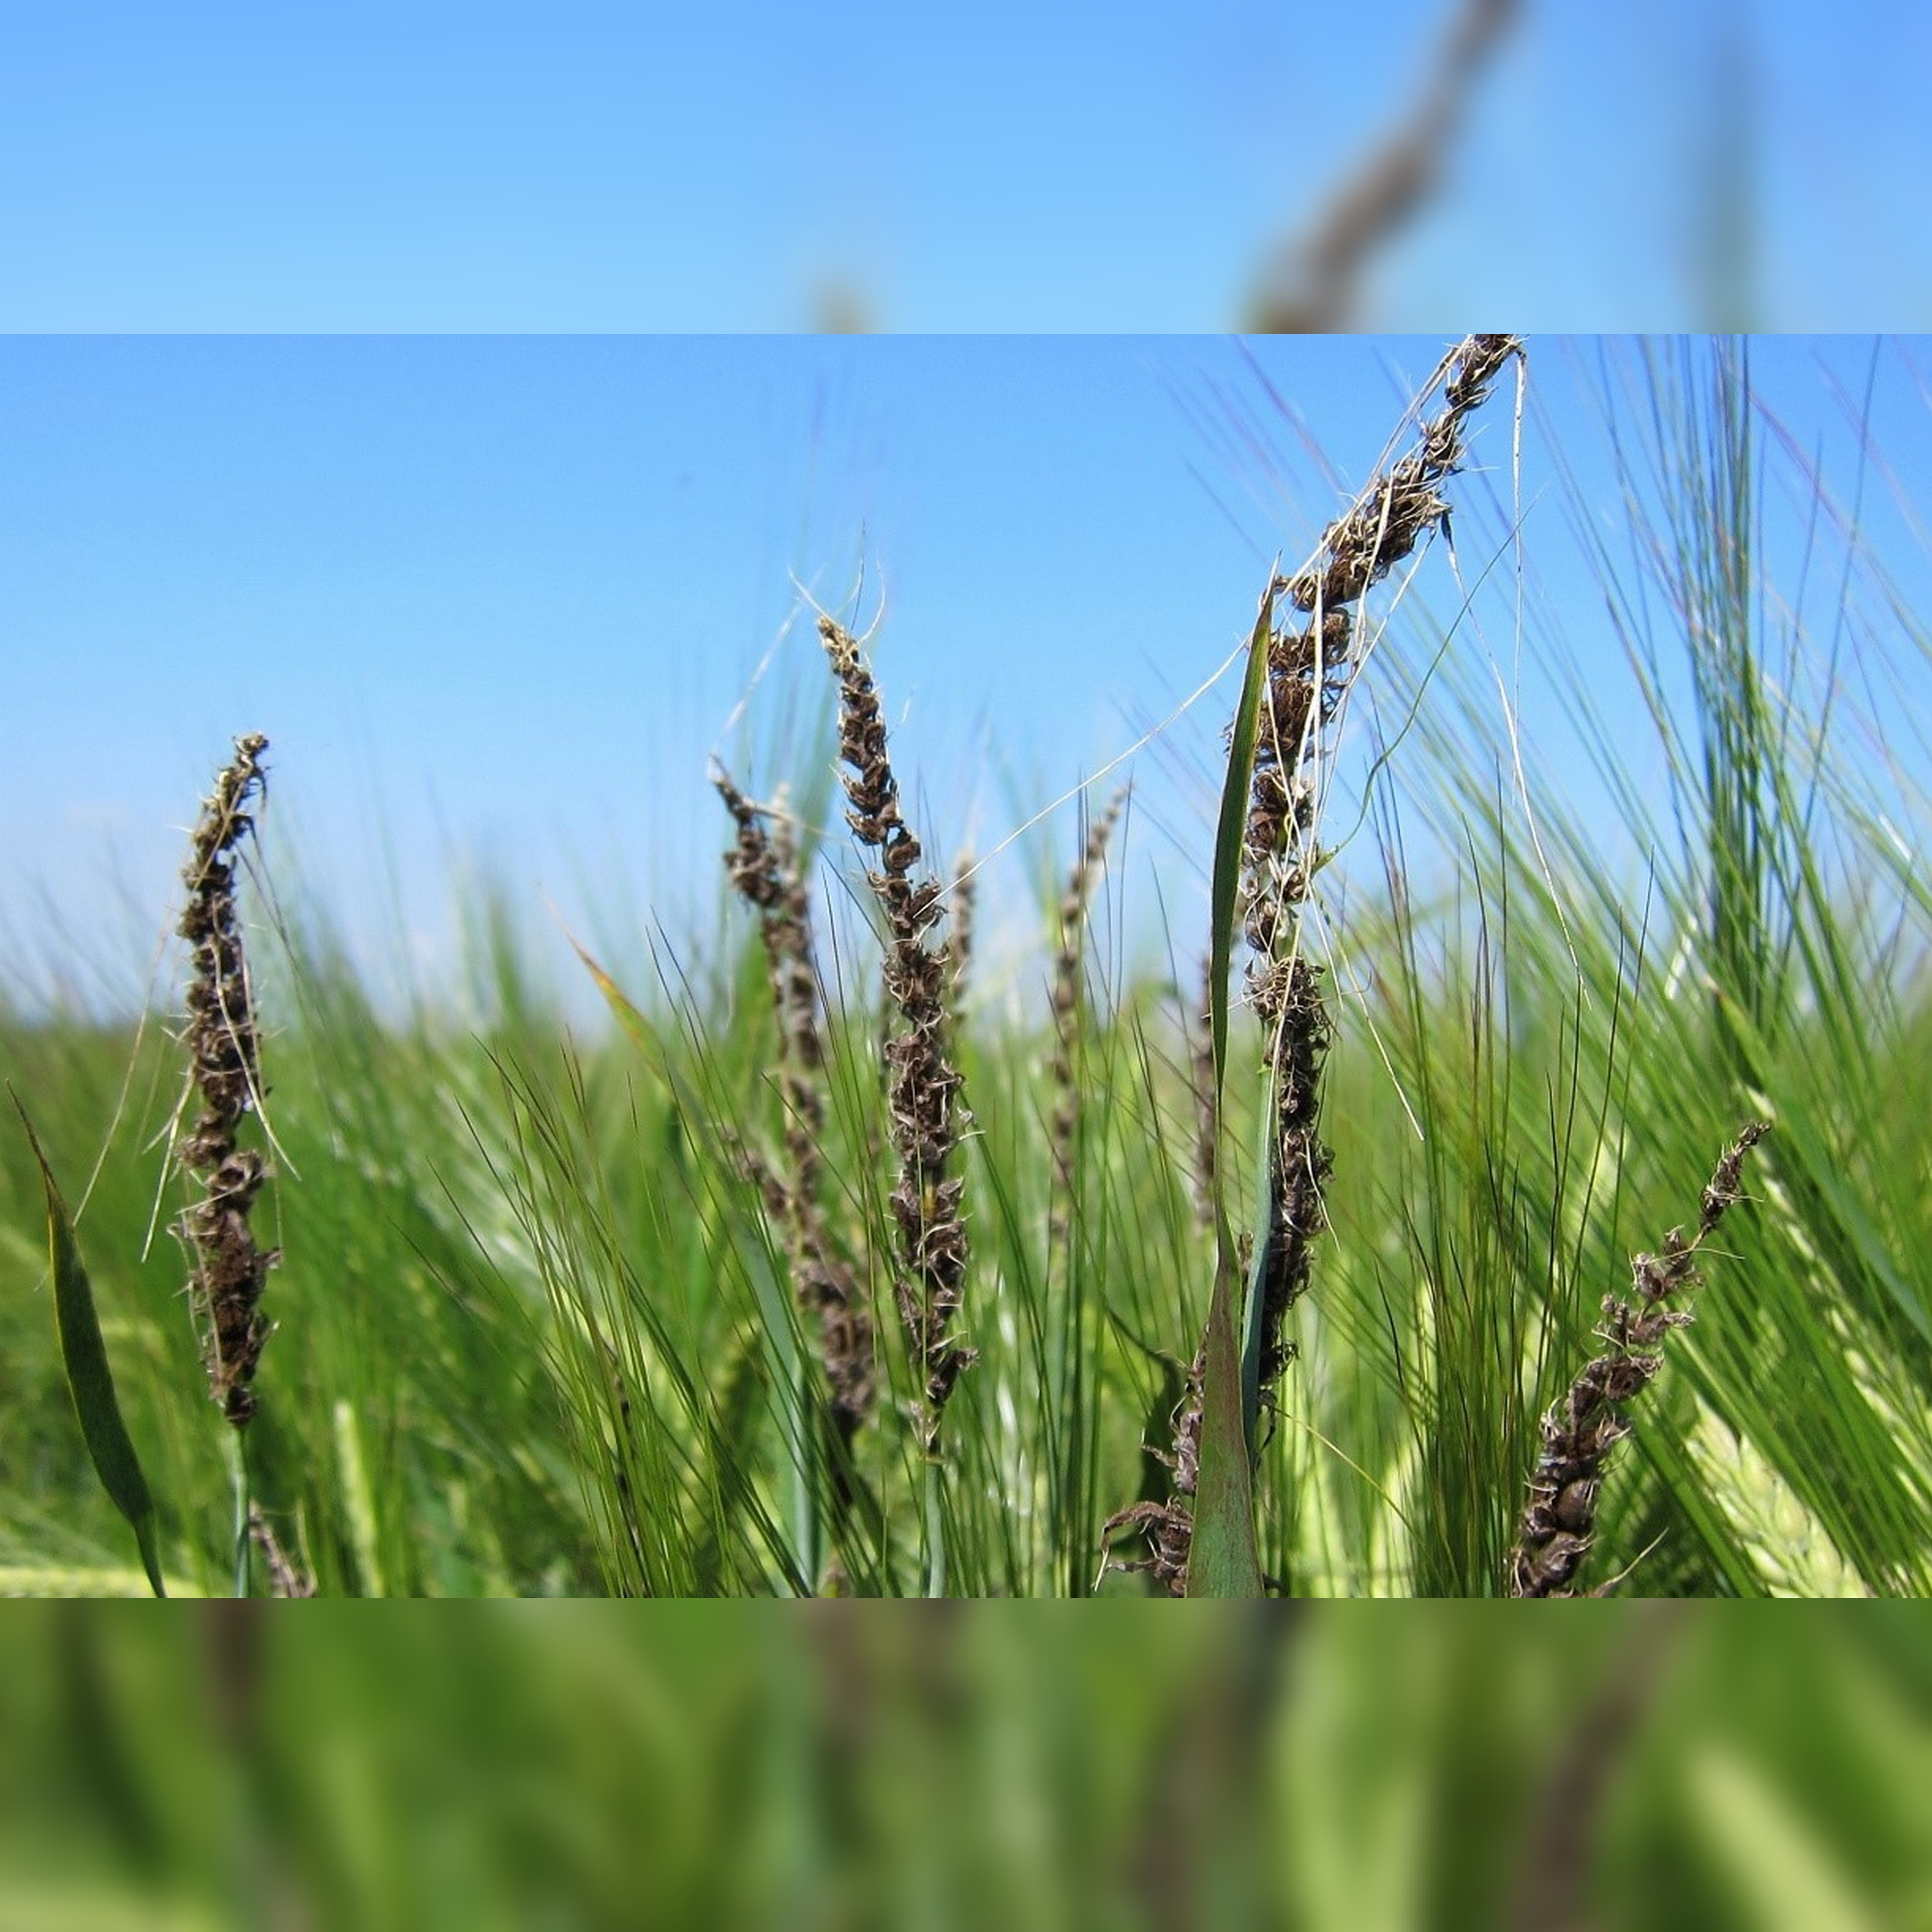Wheat Loose Smut: (725, 467, 1497, 1483), (136, 701, 327, 1392)
